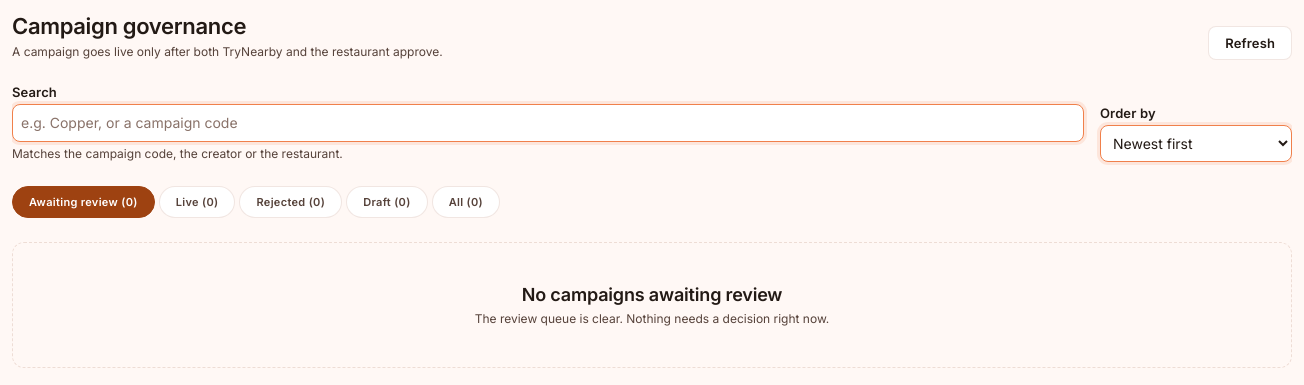
Test: AdminCampaigns › distinguishes an empty queue from an empty search
Expected: the text "No campaigns awaiting review" is shown, x1=522 y1=284 x2=782 y2=305
In the search field named "Search campaigns": (548, 123) x1=12 y1=104 x2=1084 y2=142, type "zzz"
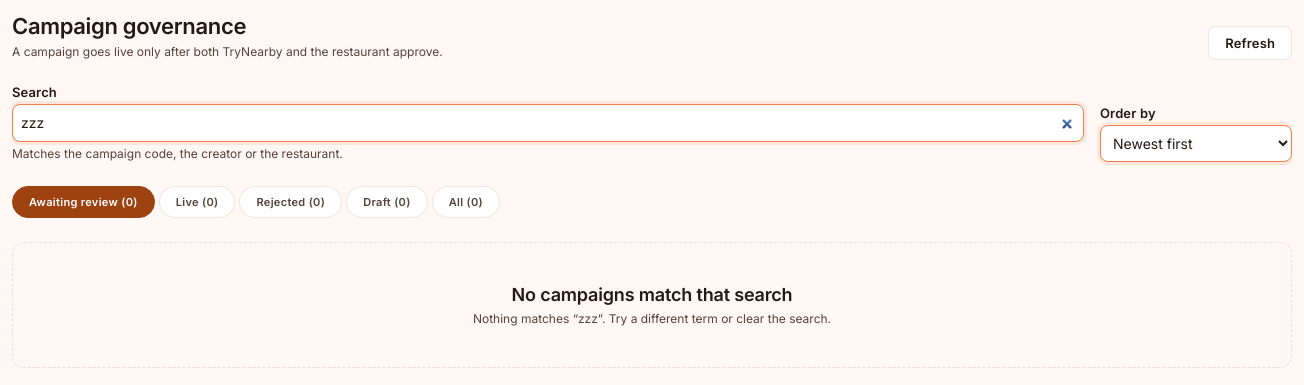
Result: the text "No campaigns match that search" is shown at x1=512 y1=284 x2=792 y2=305
